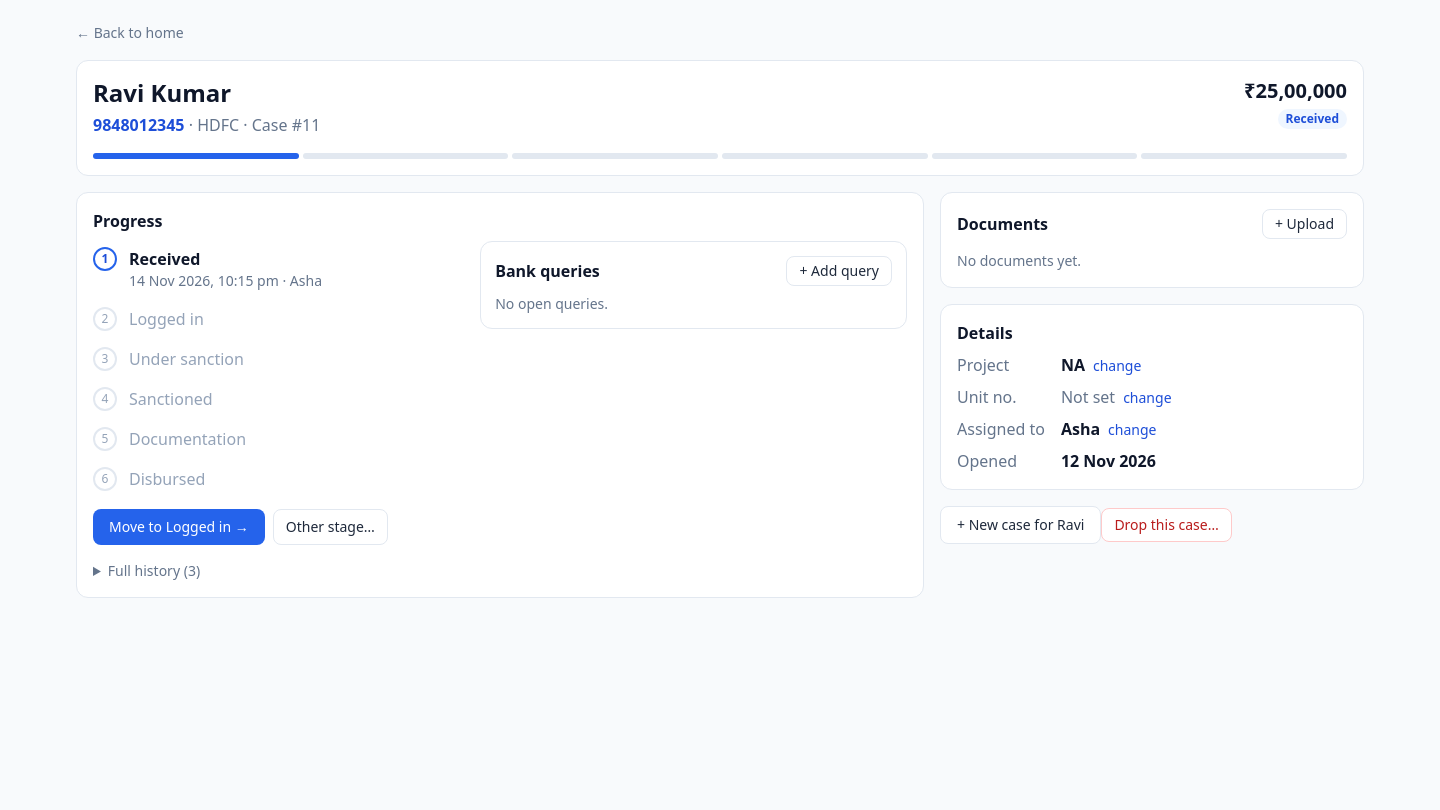
CaseDetail › refuses a tracking number with symbols
Step 1. Click the button "Move to Logged in →" → click(179, 527), box [93,509,265,545]
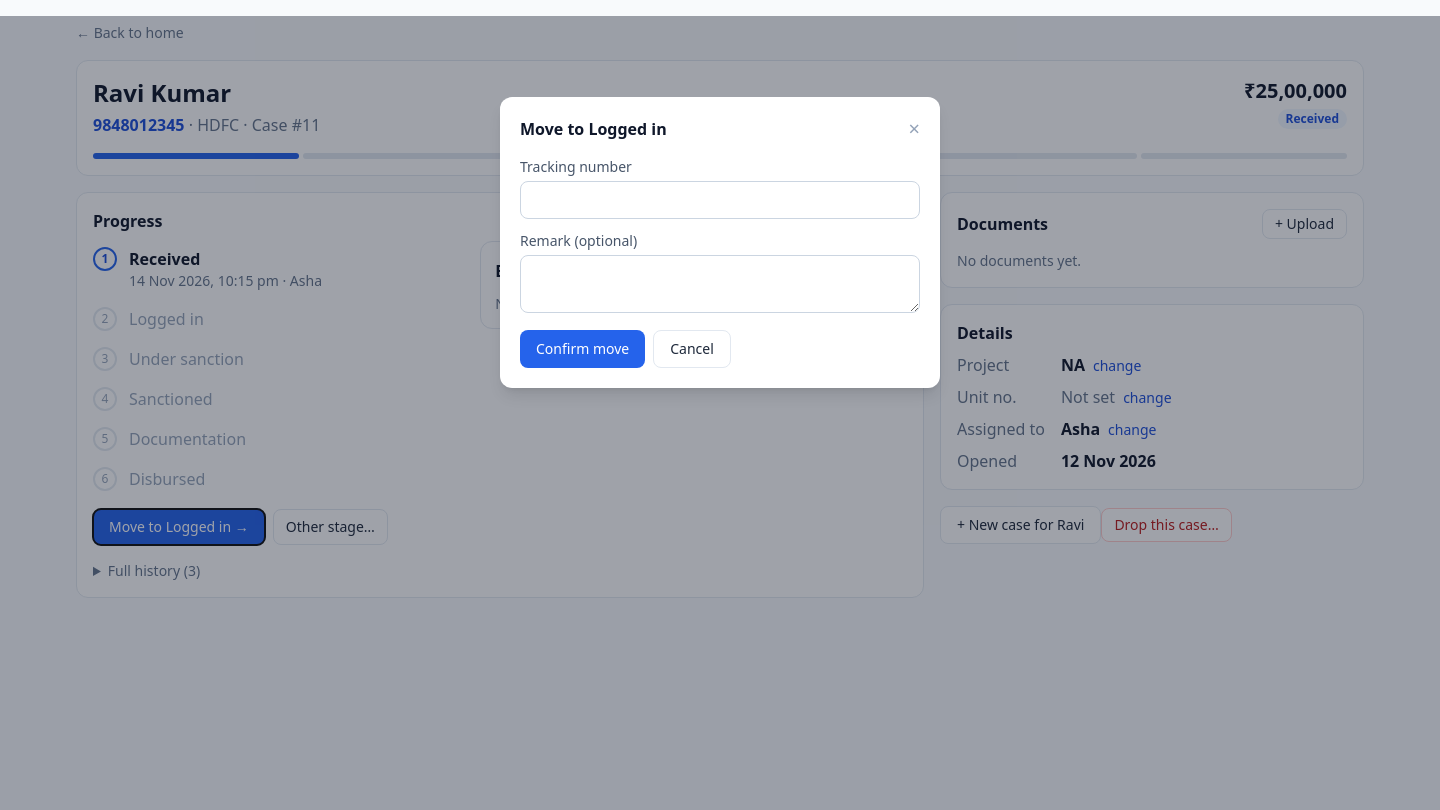
Step 2. Type "ab-12" into the field labelled "Tracking number" → (720, 200), box [520,181,920,219]
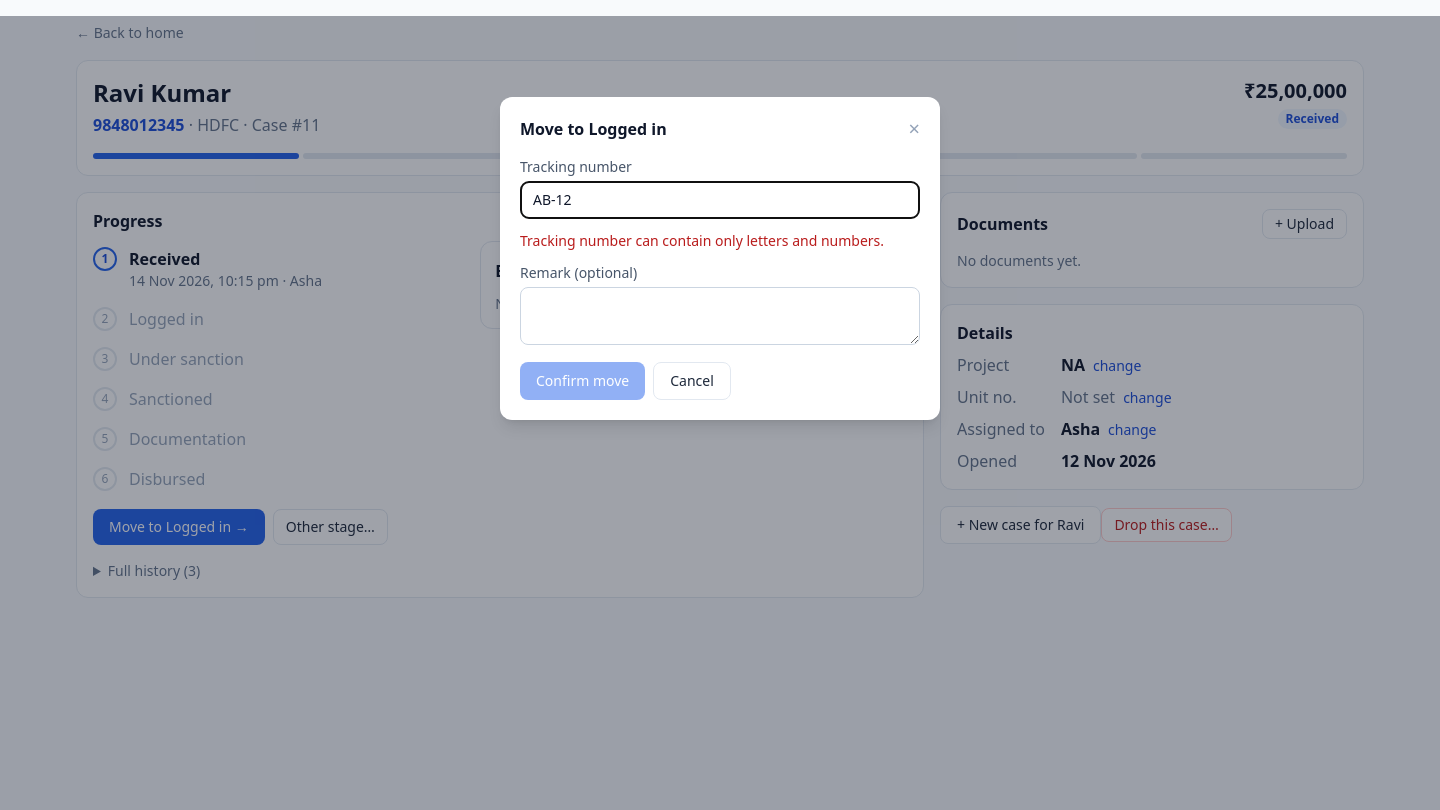
Expected: the text "Tracking number can contain only letters and numbers." is shown, [520,231,920,251]
Expected: the button "Confirm move" is disabled, [520,362,645,400]
